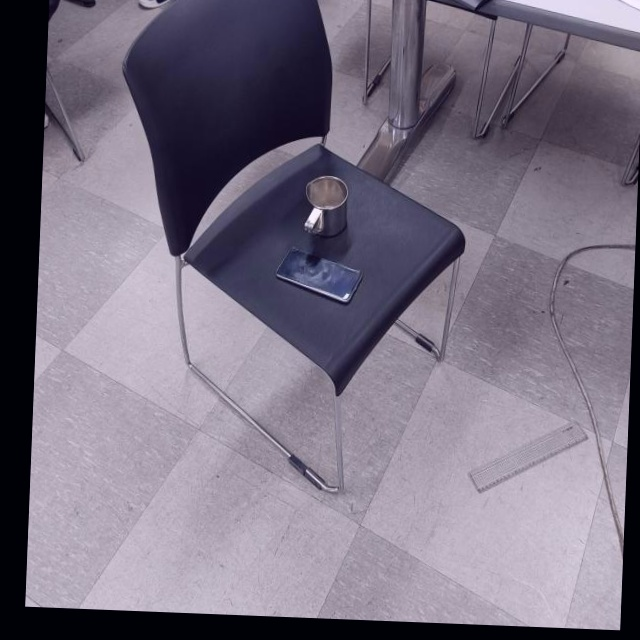cup: (303, 174, 350, 242)
phone: (274, 245, 365, 307)
